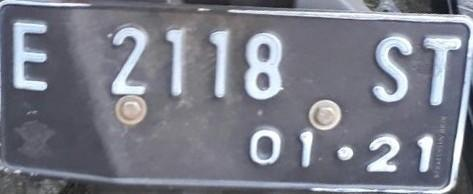1: (149, 22, 199, 104), (192, 24, 242, 104)
2: (94, 19, 154, 97)
8: (232, 27, 292, 104)
E: (10, 16, 58, 95)
S: (355, 31, 423, 110)
T: (416, 34, 466, 112)
